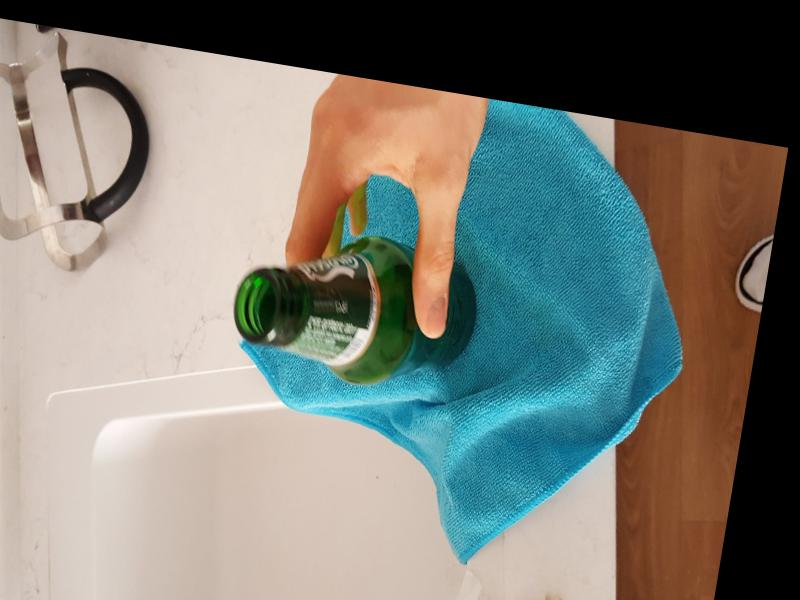Beer: (228, 227, 486, 399)
